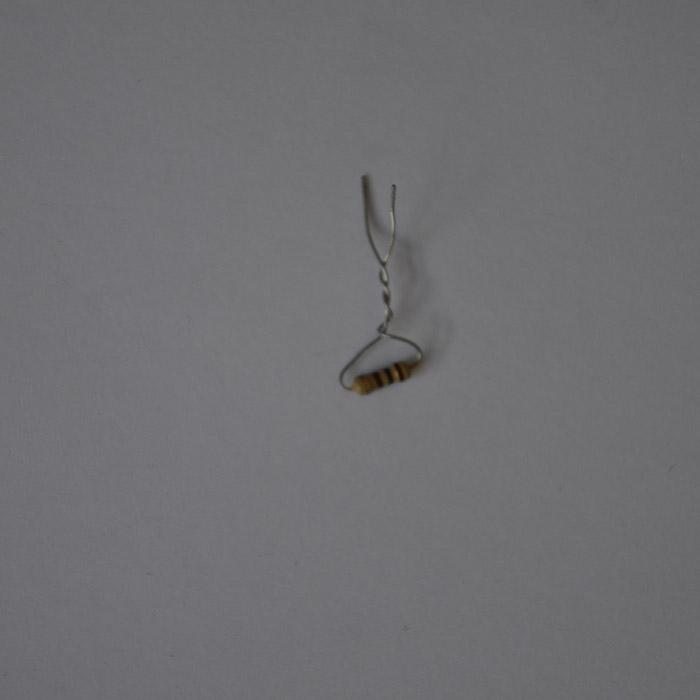resistor: (345, 358, 419, 395)
